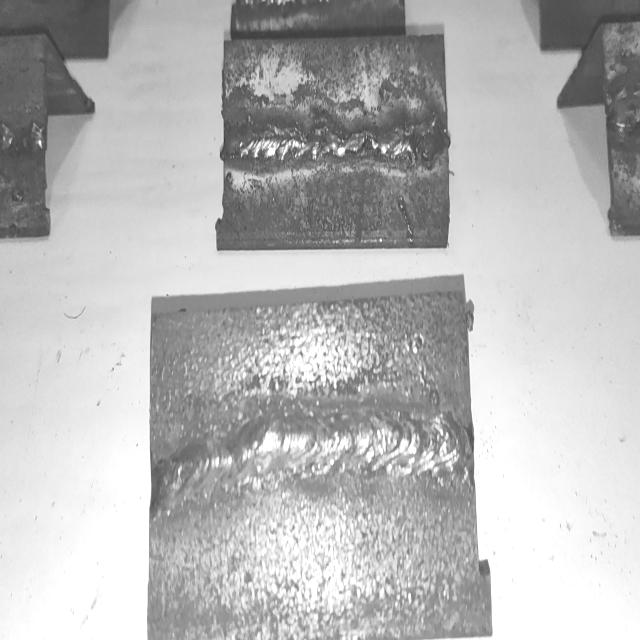Bad Weld: (225, 110, 447, 165), (0, 124, 47, 162)
Defect: (404, 108, 449, 174), (0, 120, 48, 160)
Good Weld: (152, 412, 470, 519)
